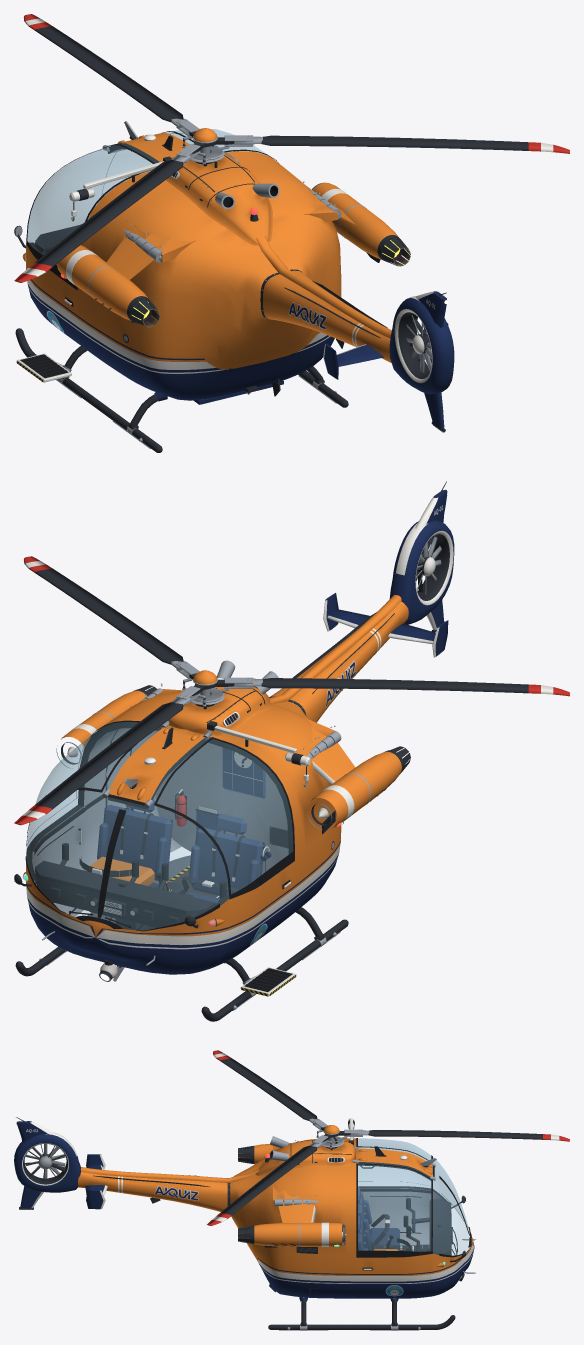
File: helicopter_boarding.glb
The picture shows the model from 3 angles, top to bottom: view 1: azimuth 30°, elevation 25°; view 2: azimuth 150°, elevation 25°; view 3: azimuth 270°, elevation 25°; orthographic projection. The views are drawn at different scales.
Visible parts, largest first — view 1: Body, MainRotorBlades, Door_L, Windows, JetPod_L, JetPod_R, FrameAndSkids, MainRotor, Step_L, JetNozzle_R, JetNozzle_L, Interior; view 2: Body, Windows, Door_L, Interior, MainRotorBlades, Door_R, JetPod_L, Seat_L, Seat_R, FrameAndSkids, MainRotor, JetPod_R (+2 smaller); view 3: Body, Door_R, Door_L, MainRotorBlades, JetPod_R, Windows, Interior, FrameAndSkids, MainRotor, Seat_L, TailRotor.
Part boxes in pixels (x1,y1,x2,y2): Body: (14, 121, 454, 432); MainRotorBlades: (14, 14, 569, 282); Door_L: (26, 143, 158, 355); Windows: (25, 135, 193, 252); JetPod_L: (56, 229, 162, 323); JetPod_R: (307, 182, 403, 262); FrameAndSkids: (15, 328, 348, 452); MainRotor: (171, 118, 262, 164); Step_L: (16, 353, 71, 382); JetNozzle_R: (381, 237, 410, 266); JetNozzle_L: (130, 298, 160, 327); Interior: (35, 151, 131, 264); Body: (14, 481, 454, 981); Windows: (23, 790, 228, 930); Door_L: (151, 737, 294, 967); Interior: (35, 729, 288, 930); MainRotorBlades: (14, 556, 569, 825); Door_R: (26, 720, 162, 910); JetPod_L: (307, 731, 403, 829); Seat_L: (188, 813, 271, 902); Seat_R: (89, 798, 172, 918); FrameAndSkids: (15, 907, 348, 1021); MainRotor: (171, 661, 262, 706); JetPod_R: (56, 688, 163, 768); Body: (14, 1117, 476, 1298); Door_R: (356, 1162, 432, 1297); Door_L: (356, 1138, 432, 1240); MainRotorBlades: (207, 1050, 569, 1225); JetPod_R: (250, 1199, 346, 1247); Windows: (432, 1157, 469, 1266); Interior: (360, 1165, 457, 1255); FrameAndSkids: (268, 1297, 455, 1330); MainRotor: (309, 1118, 369, 1148); Seat_L: (358, 1186, 399, 1245); TailRotor: (25, 1144, 65, 1178).
Bounding box in the file's own units: 9.24 × 4.5 × 12.36.
19 materials, 3 textured.
